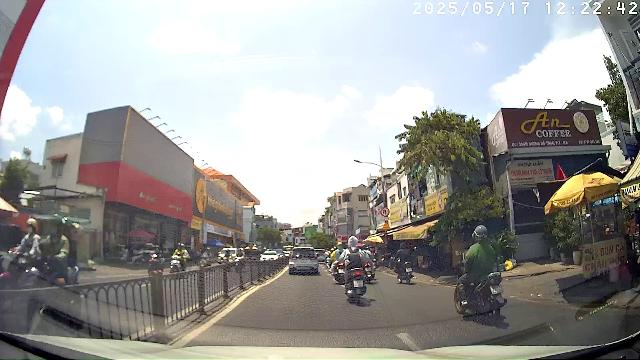124b-cam-oto-quay-dau-xe: (380, 207, 390, 217)
